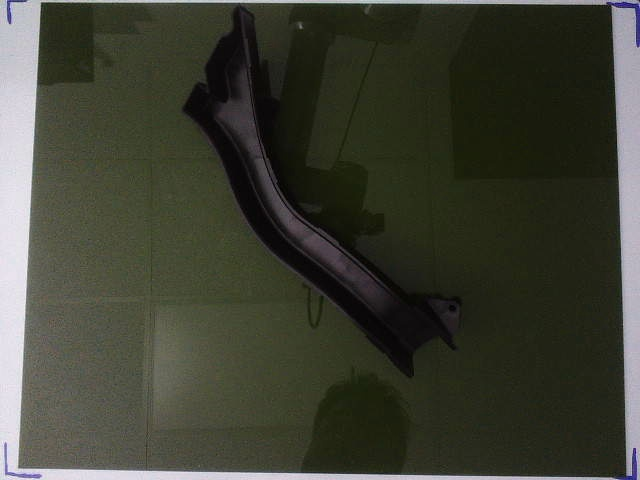887_A-Under: (185, 7, 461, 378)
